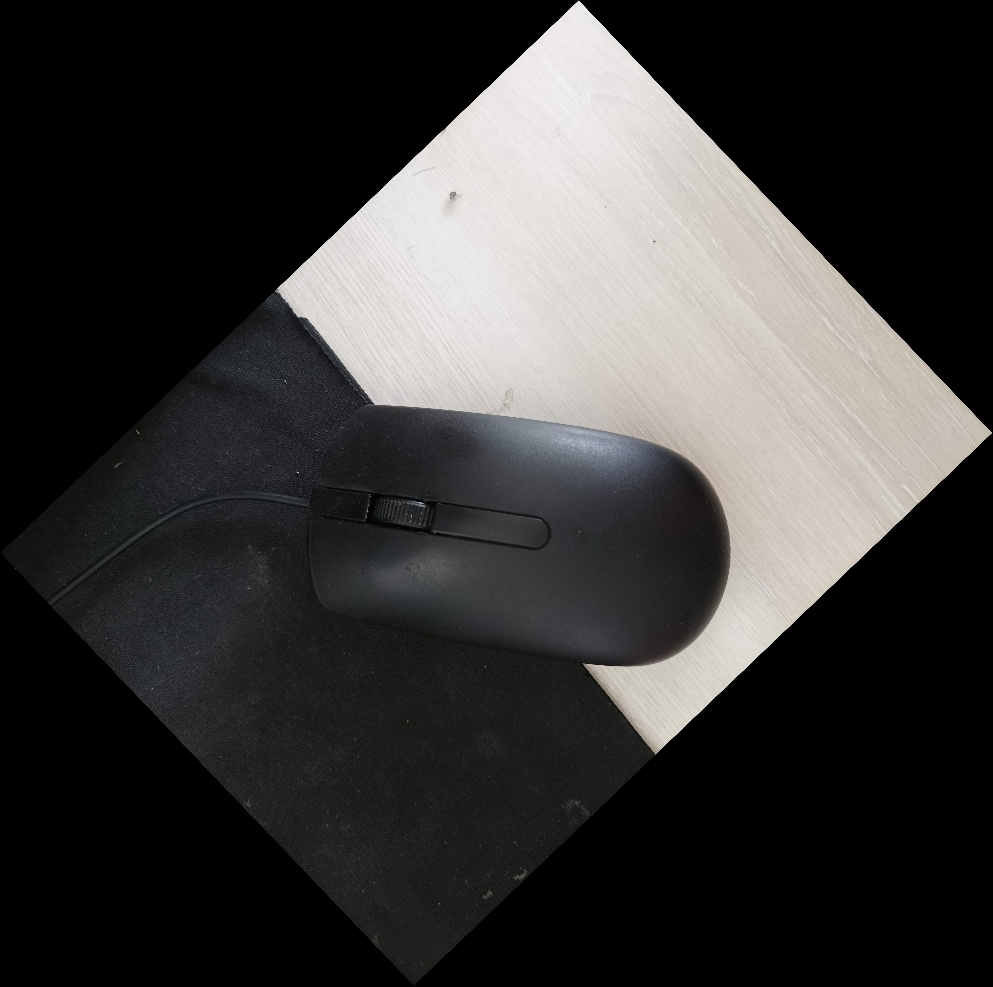mouse: (299, 396, 737, 674)
